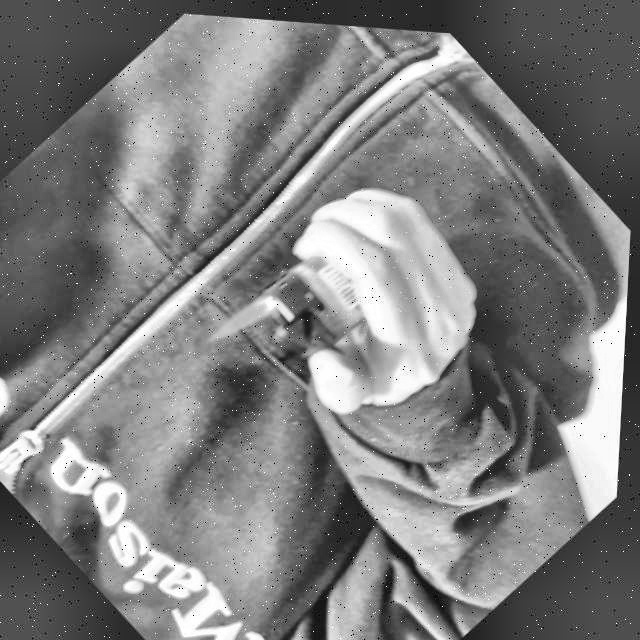Fire: (211, 281, 284, 356)
